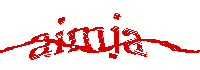a: (122, 28, 150, 58), (29, 31, 53, 60)
i: (53, 15, 66, 56)
j: (109, 12, 122, 59)
m: (67, 26, 108, 55)
